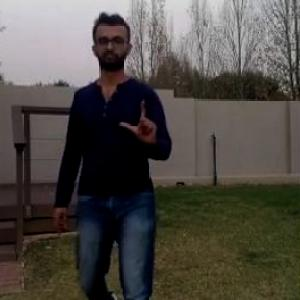land_hand: (117, 93, 163, 150)
